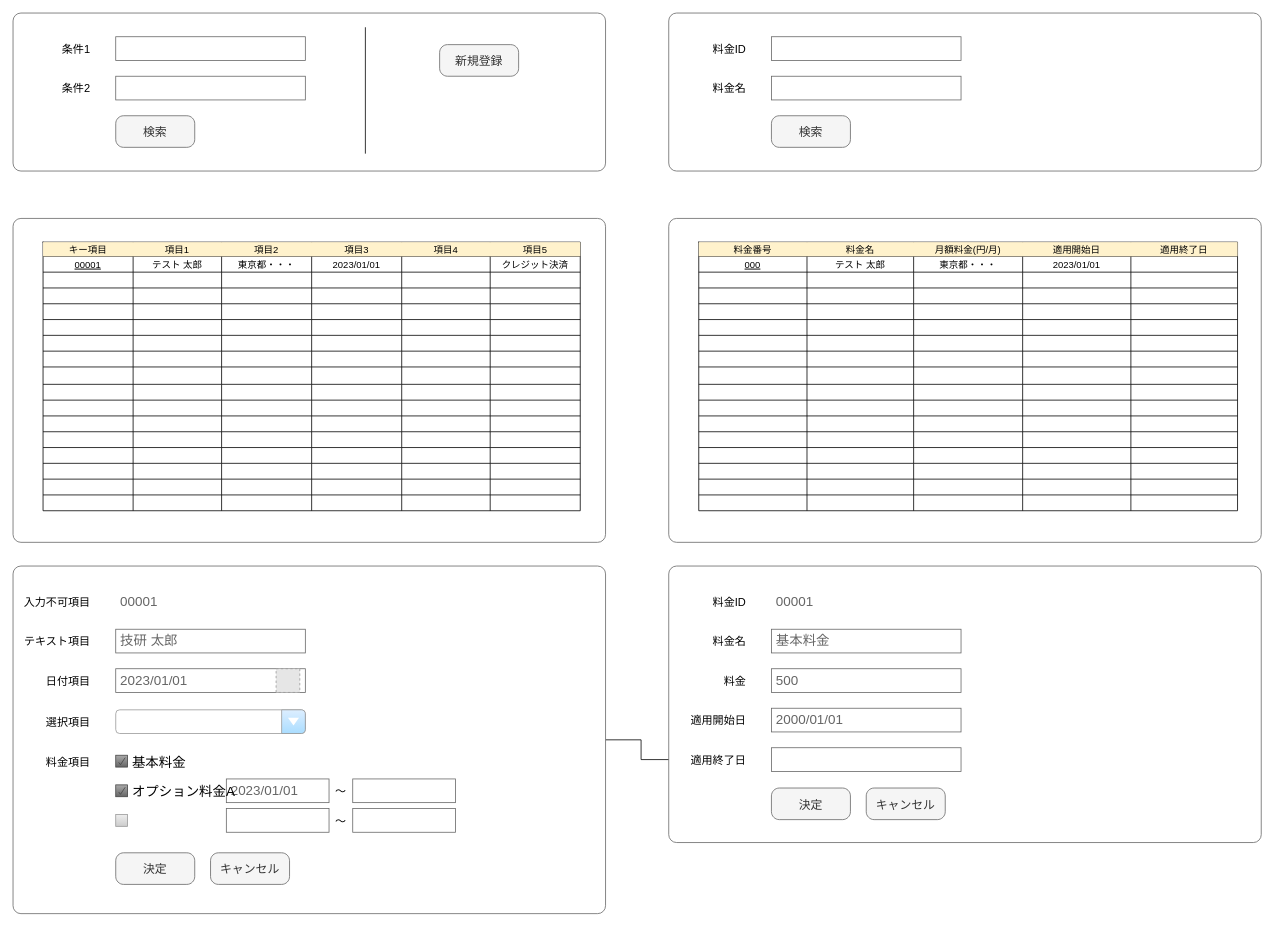
The diagram is 1274 pixels wide and 927 high, and some of its shapes have lost their labels. Grey dashed boxes stand in for pictures. The centre of each missing label's shape, as x and y in pixels:
"オプション料金B" belongs at point 121,820.
"クレジット" belongs at point 210,721.
